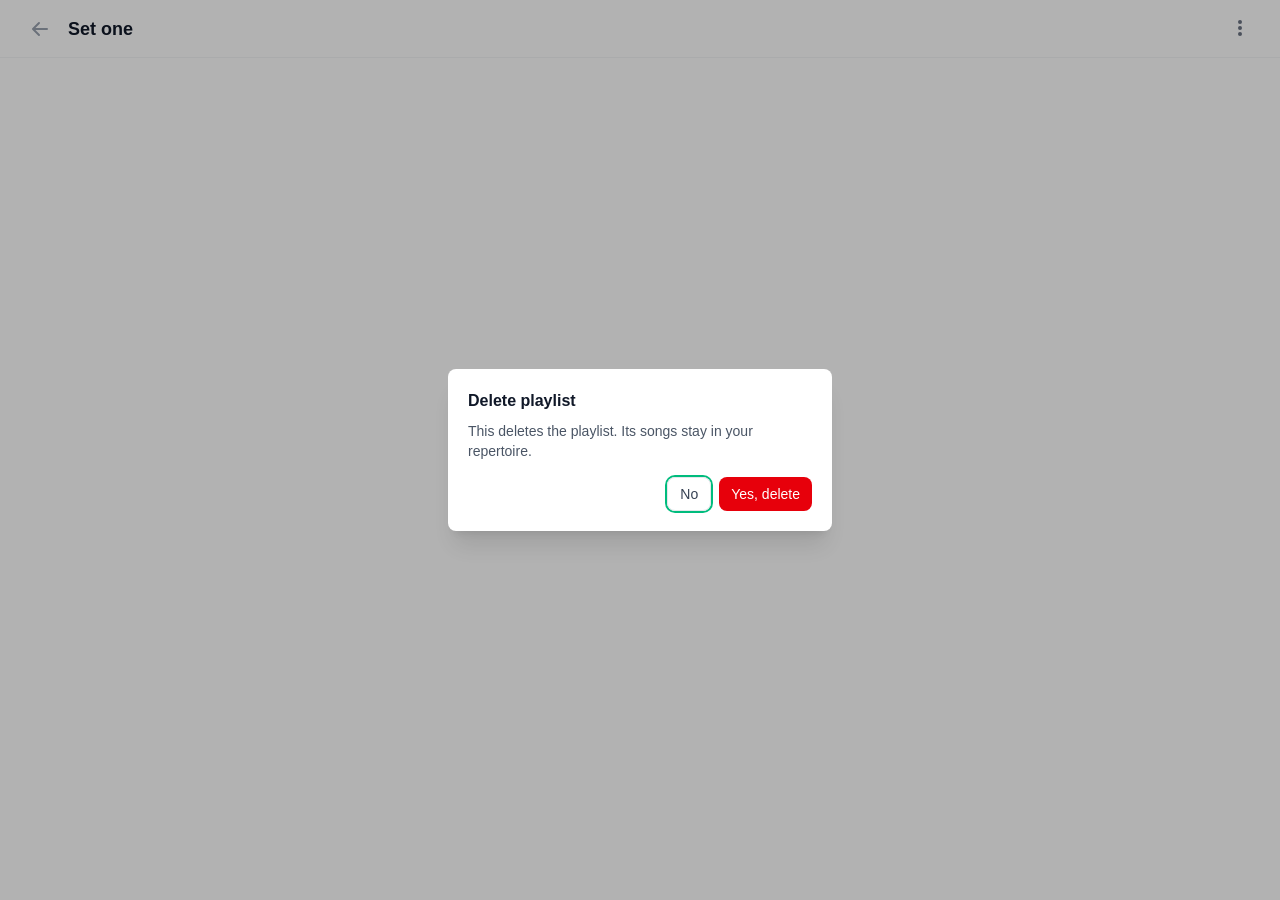
PlaylistDetailHeader › replaces Yes / No with a spinner while the delete runs
What coordinates should you click on to do the following:
click the button "Yes, delete"
I would click on:
 (766, 494)
Its box is [719,477,812,511].
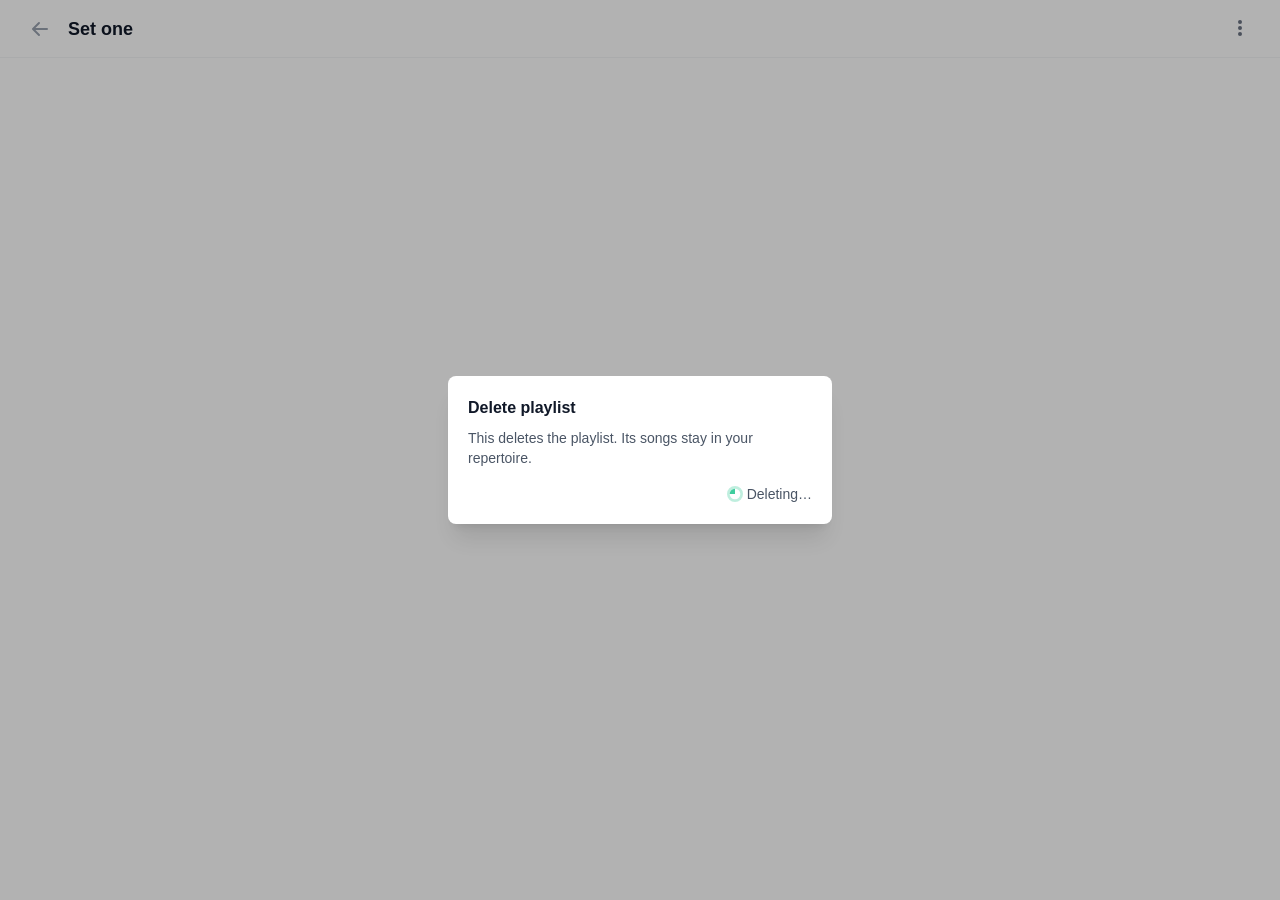
Expected: the message shows "Deleting", [747,486,812,502]
Expected: the button "Yes, delete" is gone
